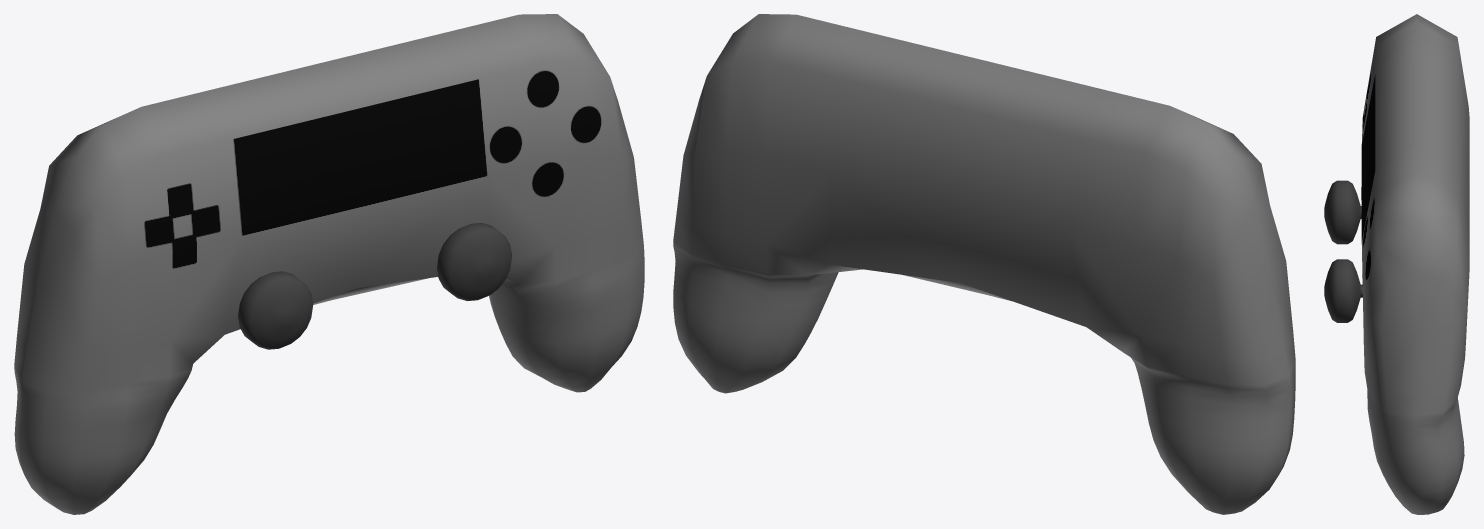
Rendered from gameenemy.fbx.
The picture shows the model from 3 angles, left to right: view 1: azimuth 30°, elevation 25°; view 2: azimuth 150°, elevation 25°; view 3: azimuth 270°, elevation 25°; orthographic projection. The views are drawn at different scales.
Visible parts, largest first — view 1: pCube3Shape; view 2: pCube3Shape; view 3: pCube3Shape.
Boxes of the visible parts, left/top/right/bottom form: pCube3Shape: left=14, top=14, right=644, bottom=514; pCube3Shape: left=673, top=14, right=1295, bottom=514; pCube3Shape: left=1324, top=14, right=1469, bottom=514.
Bounding box in the file's own units: 0.9628 × 0.5834 × 0.2421.
Materials: 1 (1 with a texture image).
